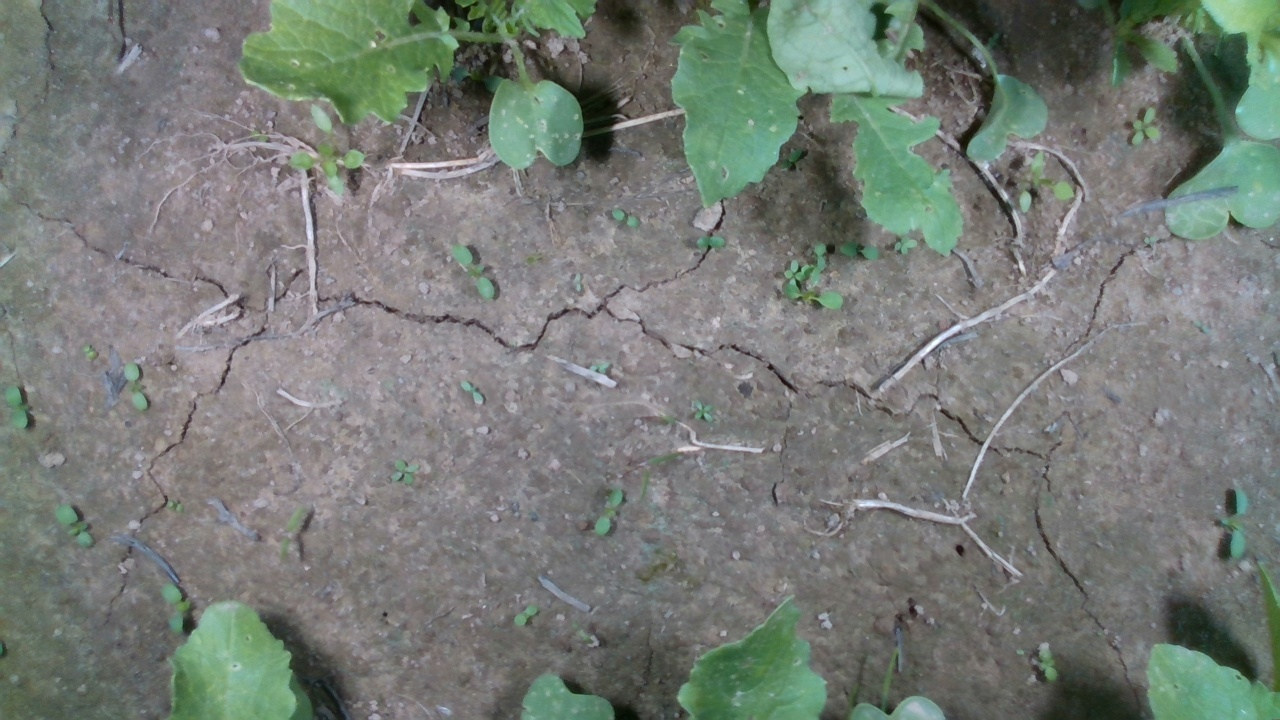weed: (450, 244, 498, 301), (52, 503, 95, 549), (276, 501, 305, 562), (593, 486, 624, 537), (1127, 104, 1161, 147), (1229, 484, 1247, 561), (122, 361, 149, 411), (2, 384, 28, 430), (388, 457, 421, 487), (1034, 644, 1059, 683), (837, 240, 879, 262), (459, 379, 487, 407), (512, 603, 538, 627), (610, 207, 641, 227), (692, 398, 716, 423), (693, 235, 725, 251), (165, 497, 184, 511)
